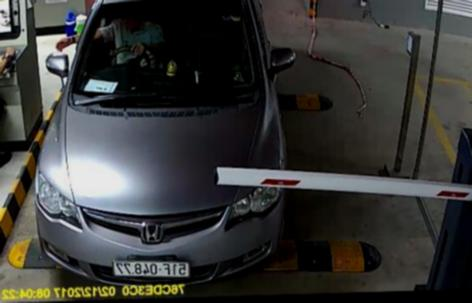License_Plate: (109, 254, 194, 284)
